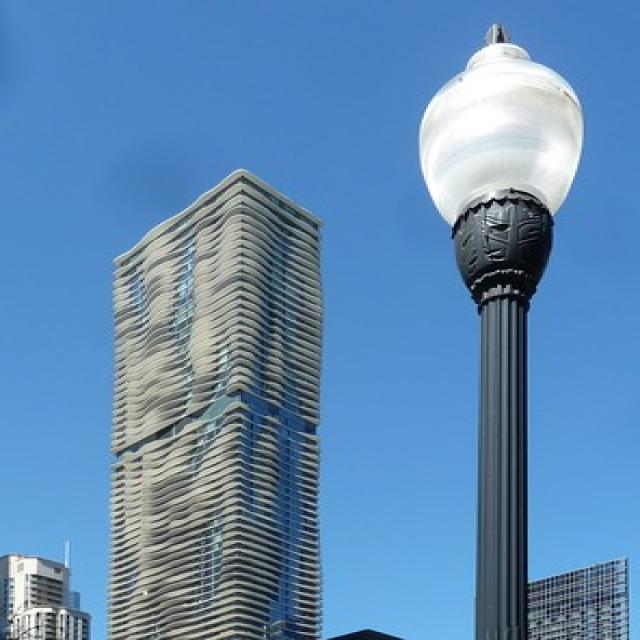building: (100, 160, 328, 637)
